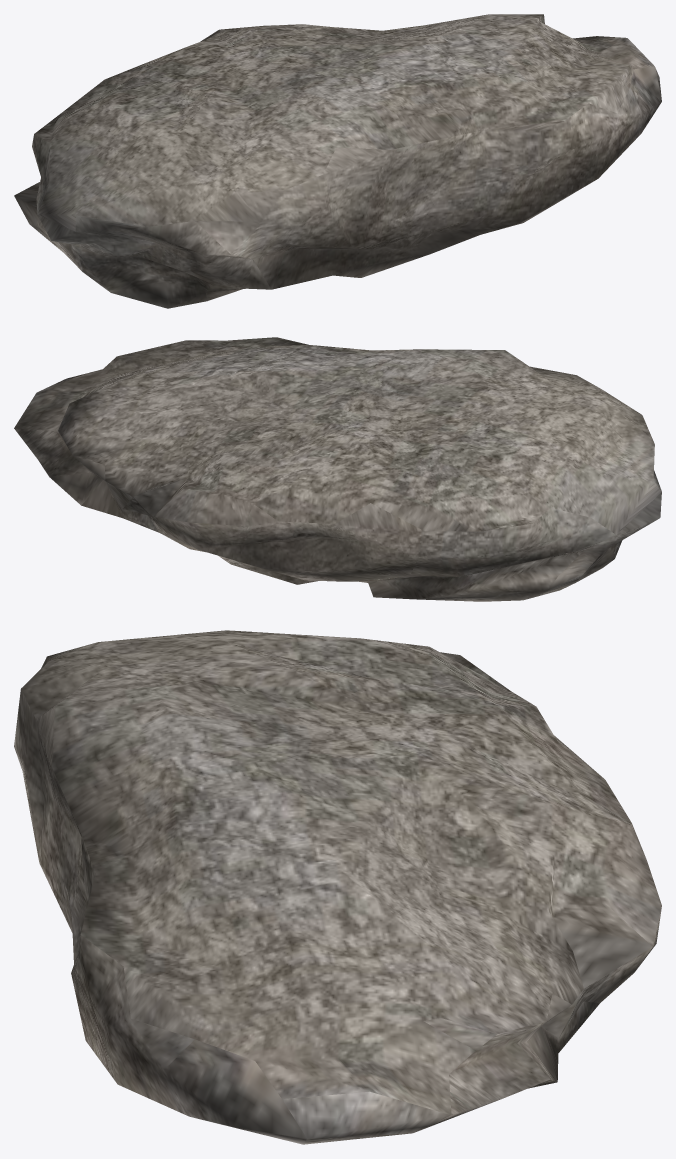
Rendered from slab_a_lod2.glb.
3 renders of one model, top to bottom at view 1: azimuth 30°, elevation 25°; view 2: azimuth 150°, elevation 25°; view 3: azimuth 270°, elevation 25°, orthographic. The views are drawn at different scales.
Parts seen in each view (by area): view 1: slab_a_lod2; view 2: slab_a_lod2; view 3: slab_a_lod2.
Part boxes in pixels (<box>): slab_a_lod2: <box>14,14,661,308</box>; slab_a_lod2: <box>14,337,661,601</box>; slab_a_lod2: <box>14,630,661,1144</box>.
Bounding box in the file's own units: 7.02 × 1.74 × 4.18.
Materials: 1 (1 with a texture image).
